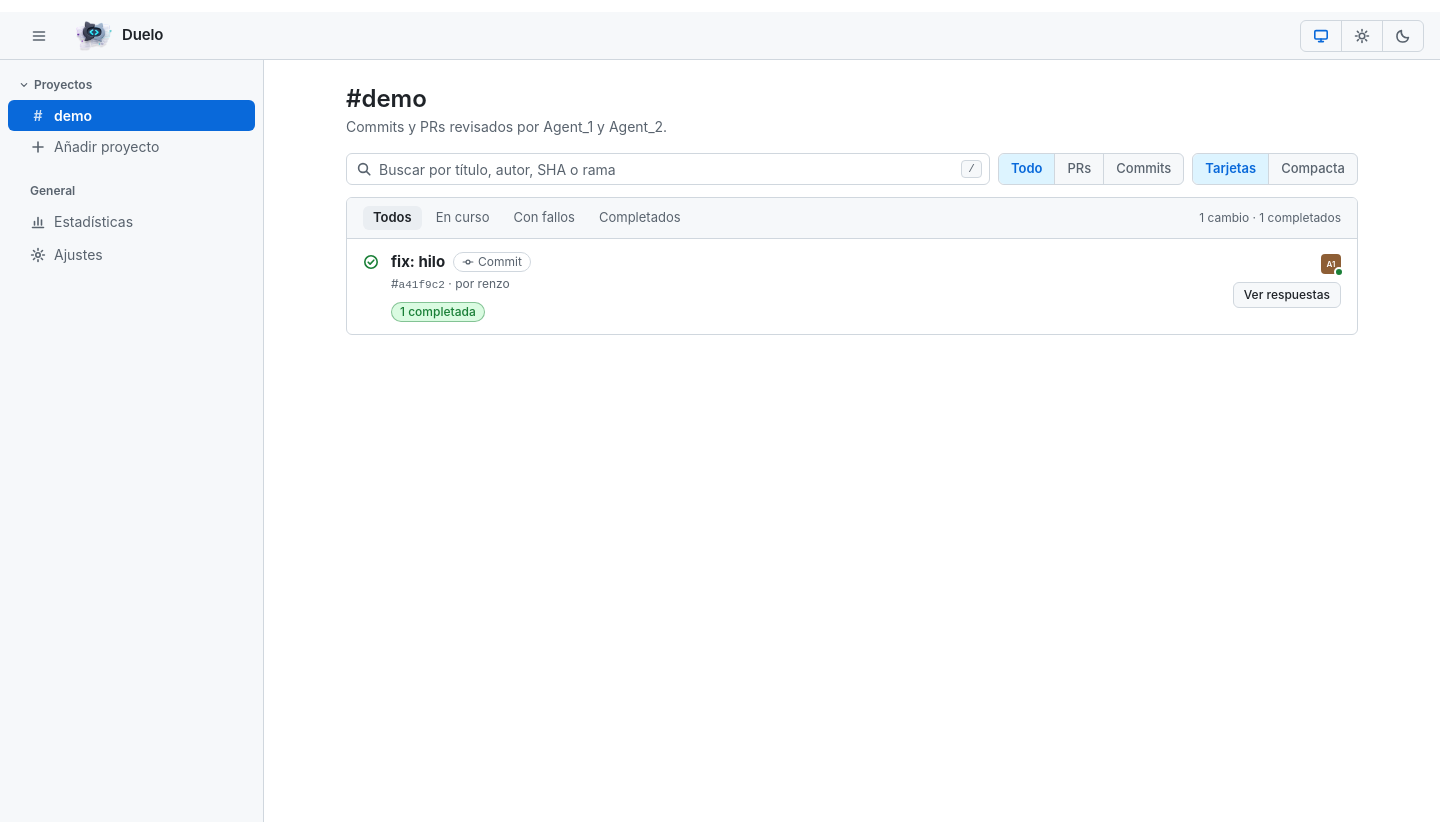
change detail as a conversation › keeps the findings inside the messages of the channel thread, where there is no panel
Click the button "Ver respuestas" at (1287, 294), box [1233,282,1341,308]
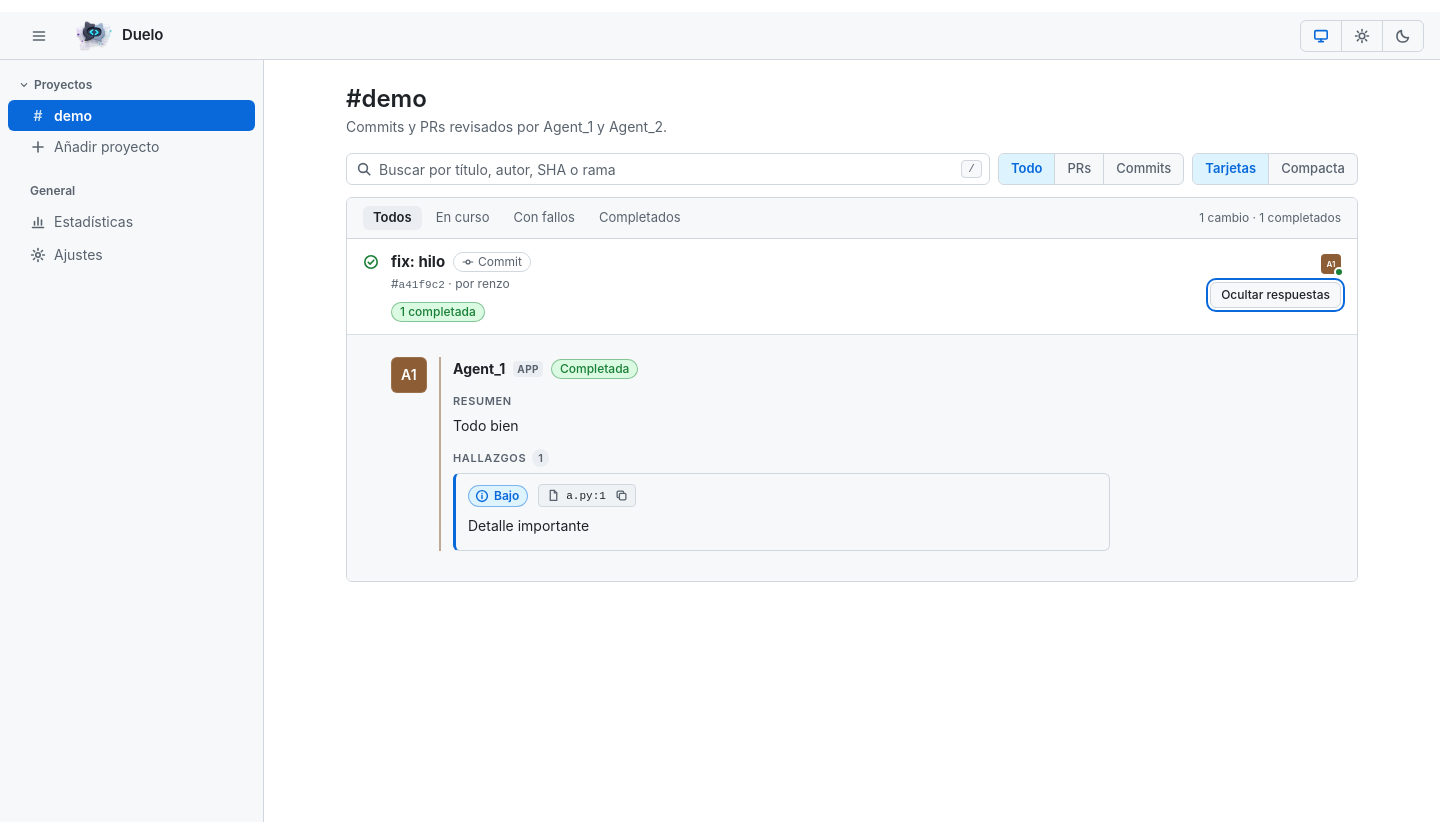
expect the text "Detalle importante" is shown: met, box [468,518,589,534]
